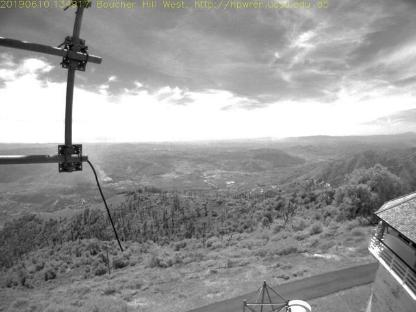smoke: (82, 144, 112, 184)
